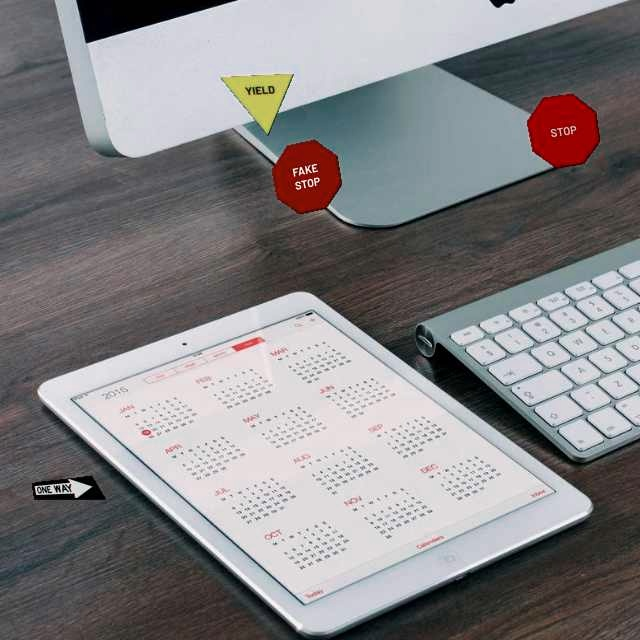FAKE_STOP: (271, 139, 342, 214)
ONE_WAY_ right: (31, 475, 106, 500)
STOP: (526, 93, 600, 168)
YIELD: (219, 73, 294, 136)
